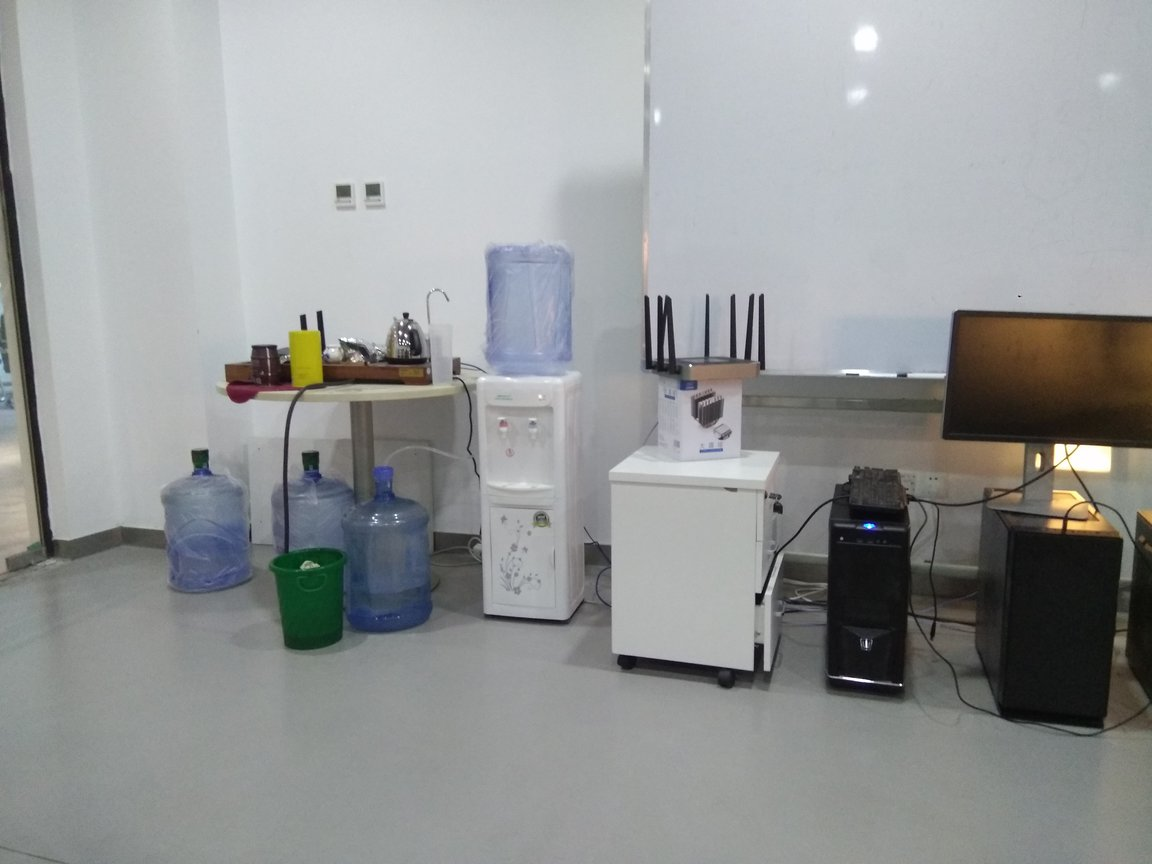computer: (977, 484, 1116, 738), (827, 473, 926, 716)
drawer chest: (609, 437, 806, 703)
monitor: (930, 303, 1152, 525)
scuttlebutt: (477, 235, 586, 381), (157, 448, 255, 598), (347, 465, 431, 638), (276, 451, 359, 616)
water dispenser: (477, 369, 599, 629)
